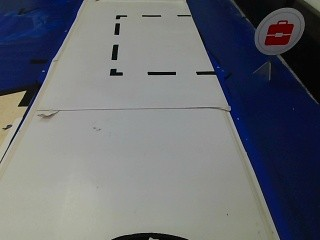company: (253, 6, 303, 54)
